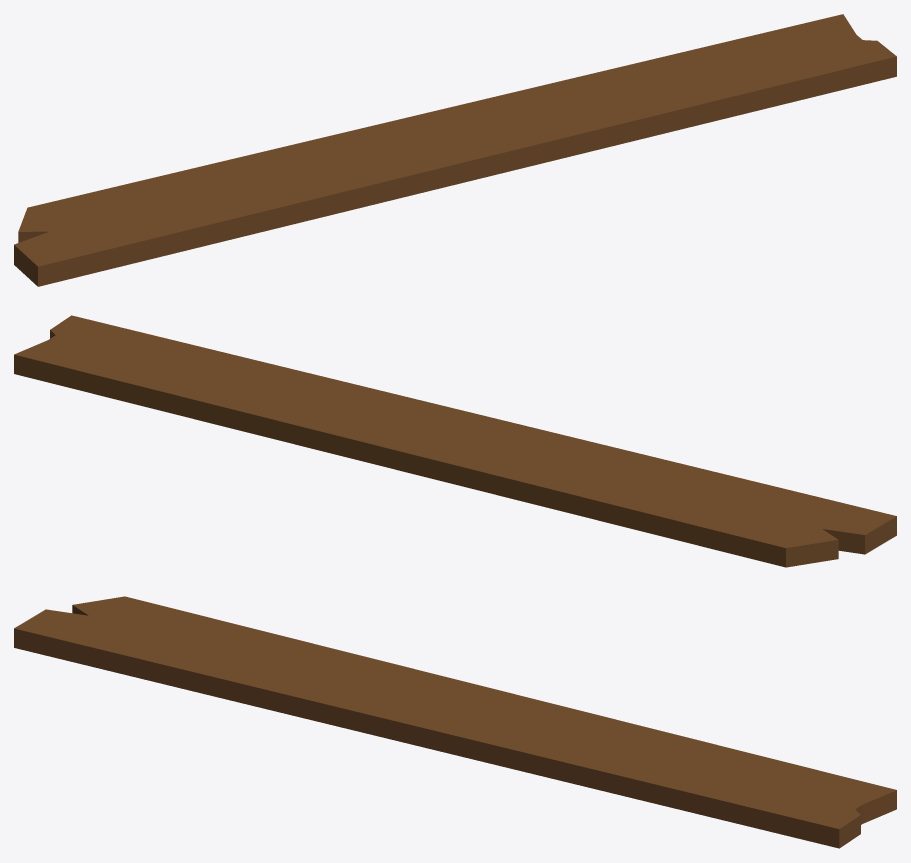
The model's file is Plank_02.fbx.
The picture shows the model from 3 angles, top to bottom: view 1: azimuth 30°, elevation 25°; view 2: azimuth 150°, elevation 25°; view 3: azimuth 330°, elevation 25°; orthographic projection. The views are drawn at different scales.
Visible parts, largest first — view 1: Plank_02; view 2: Plank_02; view 3: Plank_02.
Part boxes in pixels (left/top/right/bottom): Plank_02: left=14, top=14, right=896, bottom=286; Plank_02: left=14, top=315, right=896, bottom=567; Plank_02: left=14, top=596, right=896, bottom=848.
Bounding box in the file's own units: 168 × 3.77 × 21.32.
